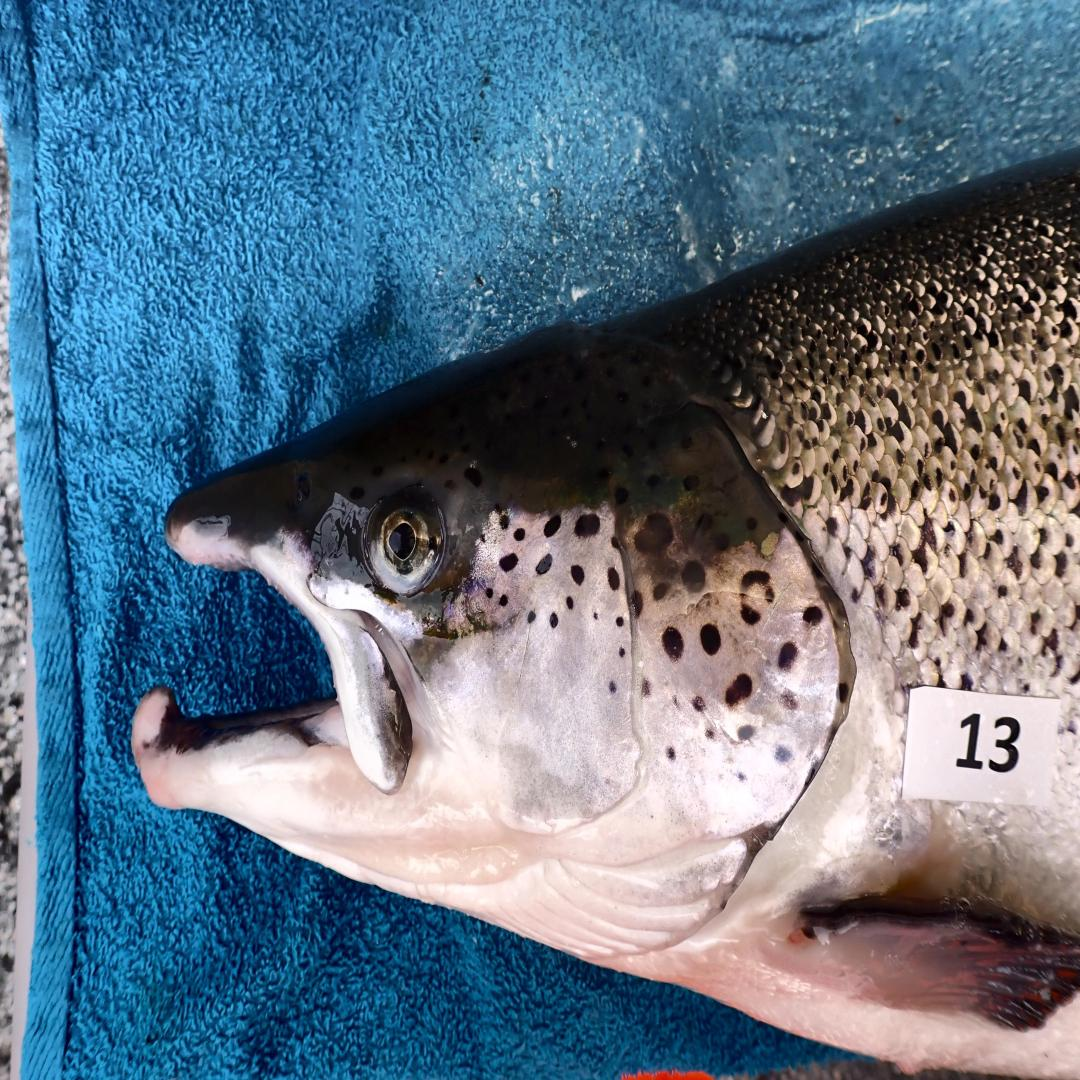spot: (737, 569, 779, 626), (635, 512, 673, 554), (726, 675, 753, 706), (681, 560, 705, 591), (662, 627, 683, 661), (776, 688, 802, 715), (700, 624, 721, 655), (772, 740, 794, 765), (778, 641, 797, 669), (576, 515, 599, 537), (736, 723, 757, 742), (544, 515, 561, 537), (804, 605, 823, 624), (536, 554, 553, 574), (500, 554, 519, 571), (690, 695, 707, 714), (608, 568, 620, 591), (654, 582, 669, 599), (633, 591, 643, 616), (641, 678, 652, 700), (572, 565, 584, 585), (705, 723, 719, 740), (664, 745, 677, 762), (838, 683, 849, 703), (734, 771, 749, 782), (673, 695, 683, 709), (500, 512, 508, 529), (500, 593, 508, 608), (551, 613, 559, 627), (591, 608, 599, 622), (610, 681, 618, 695), (515, 529, 525, 540), (527, 610, 536, 622), (485, 588, 494, 599), (567, 596, 574, 610), (616, 616, 624, 627), (618, 647, 626, 658)
